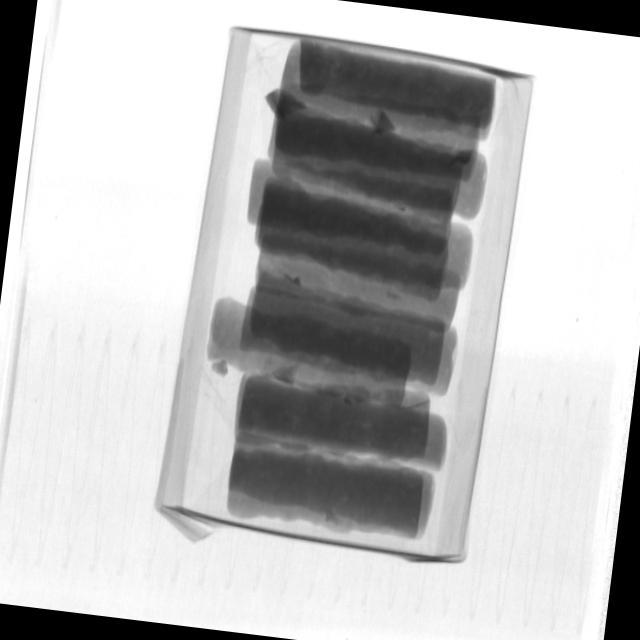ym: (263, 83, 309, 126), (271, 357, 302, 389), (373, 109, 402, 137), (209, 356, 232, 382), (384, 284, 406, 310), (282, 272, 303, 286), (396, 201, 410, 216)
